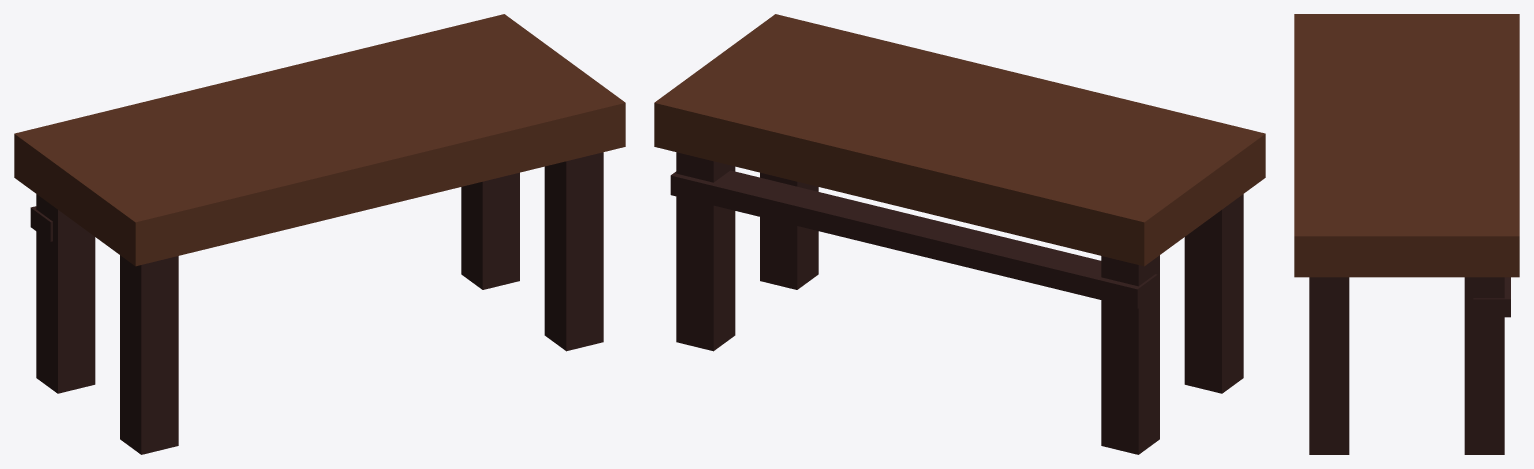
The model's file is alchemy_table.obj.
3 views of the same model, side by side, from view 1: azimuth 30°, elevation 25°; view 2: azimuth 150°, elevation 25°; view 3: azimuth 270°, elevation 25° (orthographic). The views are drawn at different scales.
Parts seen in each view (by area): view 1: alchemy_table; view 2: alchemy_table; view 3: alchemy_table.
Boxes of the visible parts, x1,y1,x2,y2 form: alchemy_table: [14, 14, 625, 454]; alchemy_table: [654, 14, 1265, 454]; alchemy_table: [1294, 14, 1519, 454].
Size of the model in its own units: 2.1 by 0.99 by 0.9.
